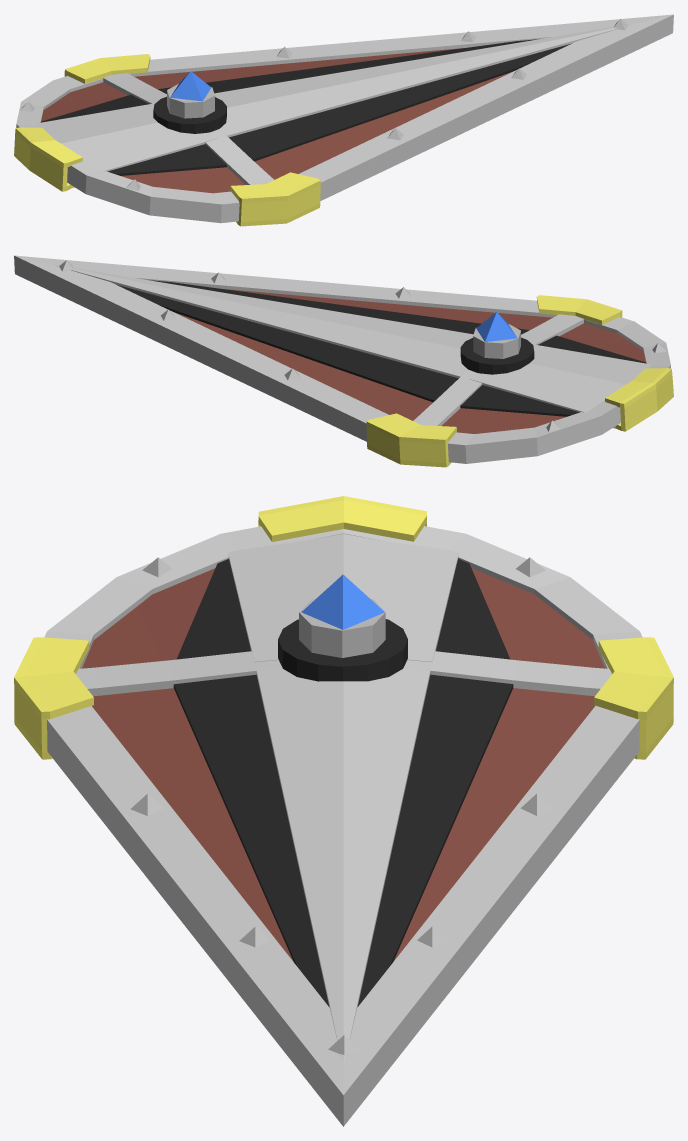
Rendered from Shield_3_d_r.fbx.
3 renders of one model, top to bottom at view 1: azimuth 30°, elevation 25°; view 2: azimuth 150°, elevation 25°; view 3: azimuth 270°, elevation 25°, orthographic. The views are drawn at different scales.
Visible parts, largest first — view 1: Circle.023, Circle.017, Circle.022, Circle.024, Circle.026, Circle.025, Circle.018, Circle.027, Circle.020, Circle.019, Cone.094; view 2: Circle.023, Circle.017, Circle.022, Circle.024, Circle.027, Circle.025, Circle.018, Circle.026, Circle.020, Circle.019, Cone.094; view 3: Circle.023, Circle.017, Circle.022, Circle.024, Circle.018, Circle.027, Circle.026, Circle.025, Circle.020, Circle.019, Cone.094.
Part boxes in pixels (bbox=[...]): Circle.023: bbox=[16, 14, 673, 223]; Circle.017: bbox=[36, 23, 636, 171]; Circle.022: bbox=[40, 39, 571, 175]; Circle.024: bbox=[41, 48, 513, 193]; Circle.026: bbox=[230, 172, 320, 226]; Circle.025: bbox=[14, 127, 82, 191]; Circle.018: bbox=[103, 73, 273, 184]; Circle.027: bbox=[64, 54, 150, 83]; Circle.020: bbox=[153, 96, 226, 133]; Circle.019: bbox=[167, 83, 214, 118]; Cone.094: bbox=[170, 71, 211, 101]; Circle.023: bbox=[14, 255, 670, 463]; Circle.017: bbox=[51, 264, 650, 412]; Circle.022: bbox=[116, 280, 646, 416]; Circle.024: bbox=[174, 289, 645, 433]; Circle.027: bbox=[366, 413, 456, 467]; Circle.025: bbox=[605, 368, 673, 431]; Circle.018: bbox=[413, 314, 583, 425]; Circle.026: bbox=[536, 295, 622, 324]; Circle.020: bbox=[460, 337, 534, 374]; Circle.019: bbox=[473, 324, 520, 358]; Cone.094: bbox=[476, 312, 517, 341]; Circle.023: bbox=[44, 526, 642, 1126]; Circle.017: bbox=[228, 534, 458, 1063]; Circle.022: bbox=[173, 559, 513, 1006]; Circle.024: bbox=[82, 568, 604, 961]; Circle.018: bbox=[76, 651, 611, 696]; Circle.027: bbox=[594, 637, 673, 759]; Circle.026: bbox=[14, 637, 93, 759]; Circle.025: bbox=[258, 496, 426, 541]; Circle.020: bbox=[278, 619, 407, 681]; Circle.019: bbox=[299, 598, 385, 657]; Cone.094: bbox=[301, 574, 384, 629].
Bounding box in the file's own units: 150 × 24.67 × 76.07.
